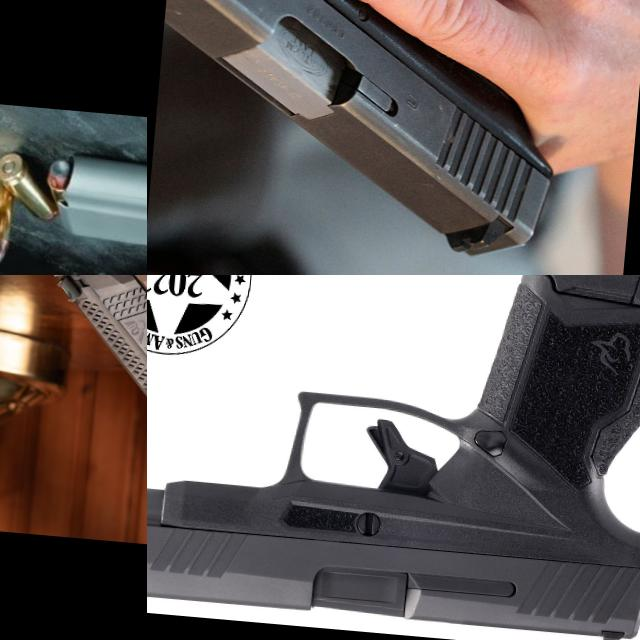handgun: (147, 275, 640, 640), (147, 0, 640, 272), (27, 275, 147, 556), (0, 143, 147, 275)
